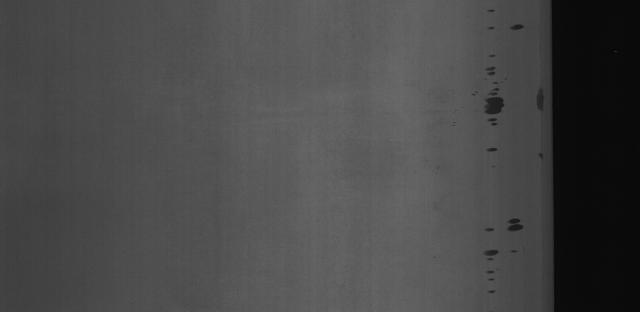oil_spot: (474, 206, 534, 277), (478, 56, 514, 156), (501, 12, 537, 34), (532, 86, 549, 118), (486, 2, 498, 34), (534, 144, 549, 160)
